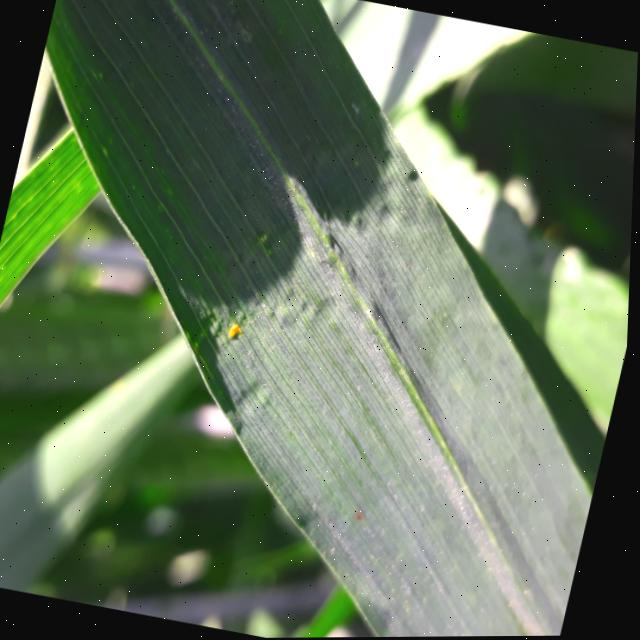orang_rust: (197, 303, 288, 384)
